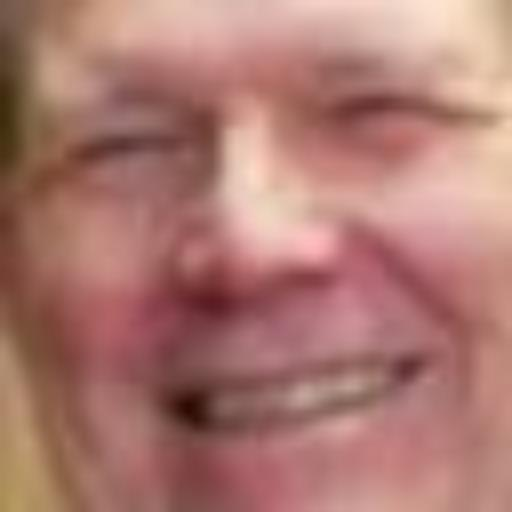left_eye: (320, 83, 475, 142)
left_lip_corner: (388, 345, 446, 395)
right_eye: (56, 122, 200, 173)
right_lip_corner: (157, 381, 224, 427)
